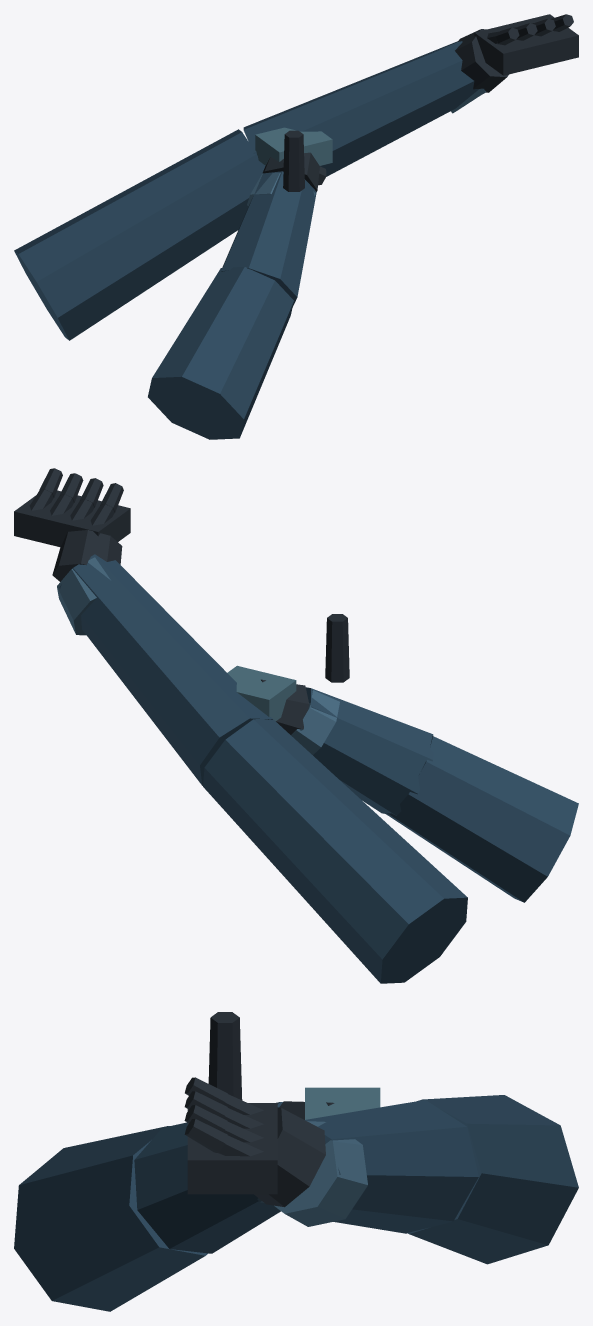
File: ak47-arms.glb
The picture shows the model from 3 angles, top to bottom: view 1: azimuth 30°, elevation 25°; view 2: azimuth 150°, elevation 25°; view 3: azimuth 270°, elevation 25°; orthographic projection. The views are drawn at different scales.
Parts seen in each view (by area): view 1: Left_UpperSleeve, Right_UpperSleeve, Left_ForeSleeve, Right_ForeSleeve, Left_HandPalm, Right_KnuckleGuard, Left_WristGlove, Left_Thumb, Right_HandPalm; view 2: Left_UpperSleeve, Left_ForeSleeve, Right_UpperSleeve, Right_ForeSleeve, Left_HandPalm, Right_KnuckleGuard, Left_WristGlove, Left_Thumb, Right_Cuff, Left_Cuff, Right_HandPalm; view 3: Right_UpperSleeve, Left_UpperSleeve, Left_ForeSleeve, Right_ForeSleeve, Left_HandPalm, Left_Cuff, Left_WristGlove, Left_Thumb, Right_KnuckleGuard, Left_Finger_4_Tip, Left_Finger_2_Tip, Left_Finger_1_Tip (+5 smaller).
Boxes of the visible parts, <box> form: Left_UpperSleeve: <box>14,129,264,340</box>; Right_UpperSleeve: <box>148,267,293,439</box>; Left_ForeSleeve: <box>243,41,485,176</box>; Right_ForeSleeve: <box>221,171,316,306</box>; Left_HandPalm: <box>474,14,578,75</box>; Right_KnuckleGuard: <box>255,127,332,165</box>; Left_WristGlove: <box>455,29,508,92</box>; Left_Thumb: <box>283,130,304,191</box>; Right_HandPalm: <box>262,152,319,191</box>; Left_UpperSleeve: <box>203,719,467,983</box>; Left_ForeSleeve: <box>59,554,272,785</box>; Right_UpperSleeve: <box>386,736,578,902</box>; Right_ForeSleeve: <box>300,687,433,815</box>; Left_HandPalm: <box>14,490,130,547</box>; Right_KnuckleGuard: <box>227,665,296,721</box>; Left_WristGlove: <box>52,530,122,581</box>; Left_Thumb: <box>325,614,349,682</box>; Right_Cuff: <box>291,690,339,754</box>; Left_Cuff: <box>57,557,110,635</box>; Right_HandPalm: <box>261,679,309,734</box>; Right_UpperSleeve: <box>14,1126,208,1311</box>; Left_UpperSleeve: <box>407,1095,578,1264</box>; Left_ForeSleeve: <box>288,1100,478,1233</box>; Right_ForeSleeve: <box>134,1102,282,1253</box>; Left_HandPalm: <box>187,1103,277,1194</box>; Left_Cuff: <box>274,1121,367,1226</box>; Left_WristGlove: <box>254,1107,325,1207</box>; Left_Thumb: <box>208,1012,242,1100</box>; Right_KnuckleGuard: <box>305,1087,380,1119</box>; Left_Finger_4_Tip: <box>184,1118,227,1152</box>; Left_Finger_2_Tip: <box>184,1091,227,1118</box>; Left_Finger_1_Tip: <box>185,1077,227,1104</box>.
Bounding box in the file's own units: 3.29 × 2.13 × 2.25.
